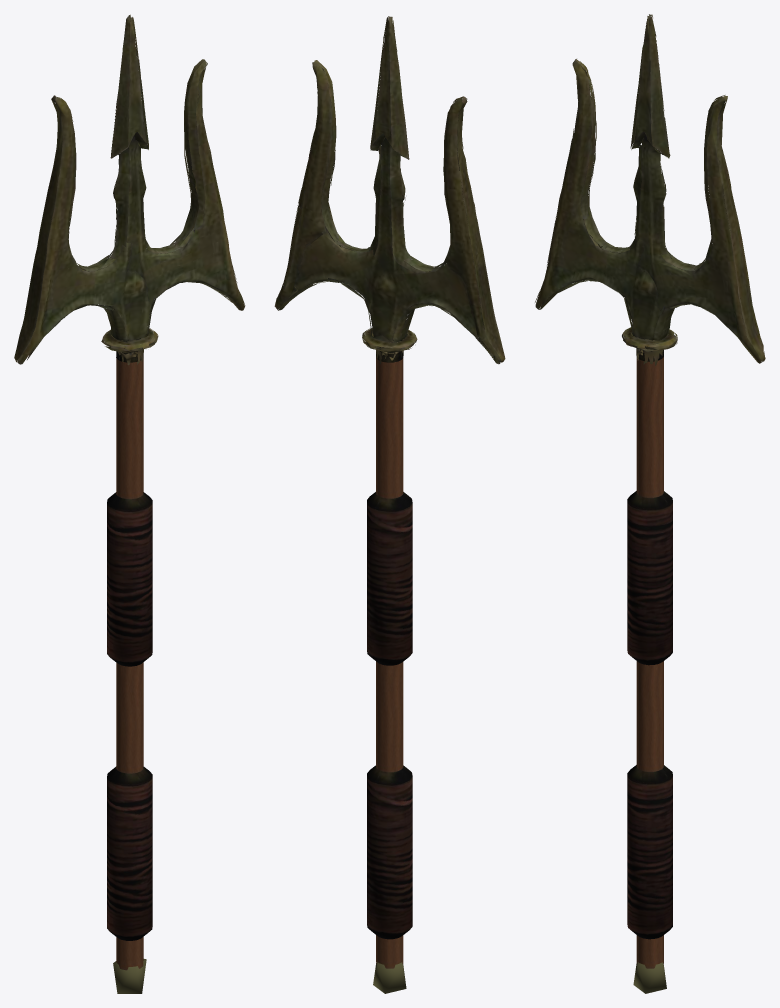
The model's file is trident.part.glb.
The picture shows the model from 3 angles, left to right: view 1: azimuth 30°, elevation 25°; view 2: azimuth 150°, elevation 25°; view 3: azimuth 330°, elevation 25°; orthographic projection.
Parts seen in each view (by area): view 1: WeaponDrawn; view 2: WeaponDrawn; view 3: WeaponDrawn.
Boxes of the visible parts, box(x1,y1,x2,y2) form: WeaponDrawn: box(14, 14, 245, 993); WeaponDrawn: box(274, 16, 505, 993); WeaponDrawn: box(535, 14, 765, 993).
Size of the model in its own units: 0.3493 by 1.42 by 0.0687.
2 materials, 2 textured.
